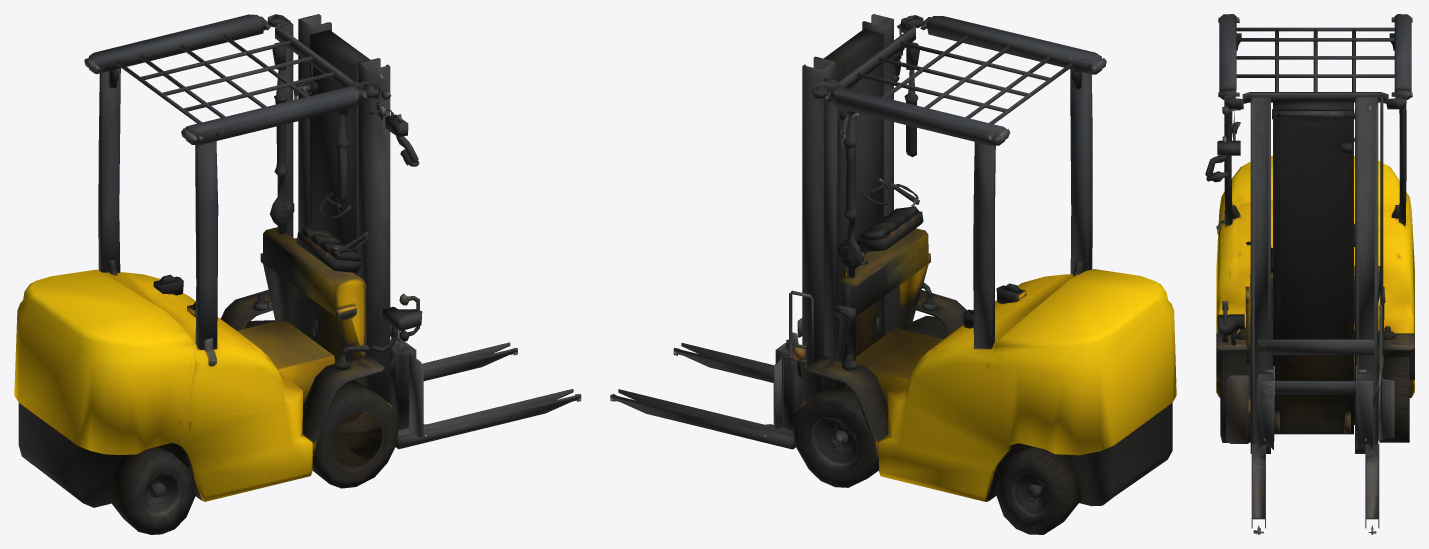
Rendered from forklift.glb.
3 views of the same model, side by side, from view 1: azimuth 30°, elevation 25°; view 2: azimuth 150°, elevation 25°; view 3: azimuth 270°, elevation 25° (orthographic). The views are drawn at different scales.
Parts seen in each view (by area): view 1: tripo_node_425ac62f-00d6-4da5-9e08-f27e13ed54d2; view 2: tripo_node_425ac62f-00d6-4da5-9e08-f27e13ed54d2; view 3: tripo_node_425ac62f-00d6-4da5-9e08-f27e13ed54d2.
Part boxes in pixels (box(x1,y1,x2,y2)): tripo_node_425ac62f-00d6-4da5-9e08-f27e13ed54d2: box(14, 14, 581, 534); tripo_node_425ac62f-00d6-4da5-9e08-f27e13ed54d2: box(610, 14, 1176, 534); tripo_node_425ac62f-00d6-4da5-9e08-f27e13ed54d2: box(1205, 14, 1414, 534).
Bounding box in the file's own units: 0.998 × 0.7559 × 0.4043.
1 material, 1 textured.
